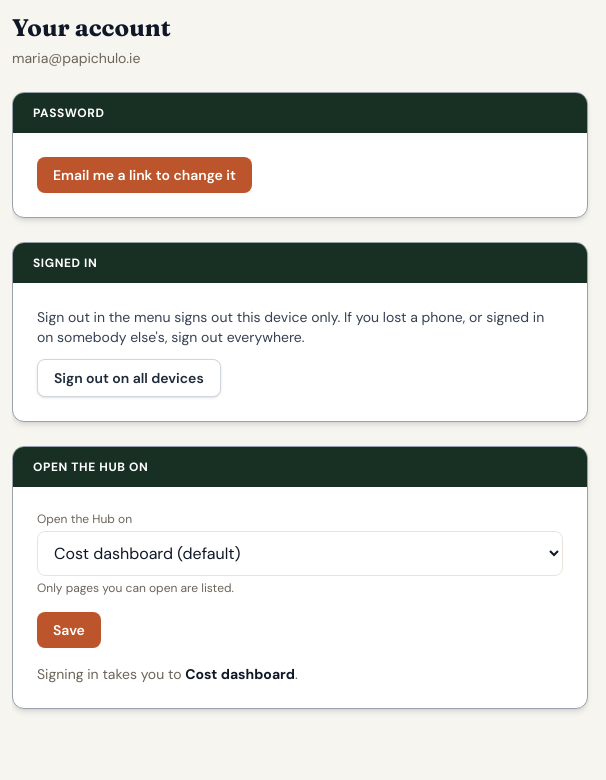
Scenario: your password › emails a link to change it rather than taking one typed here
Step 1. Click the button "Email me a link to change it" → [144, 175], box [37,157,252,193]
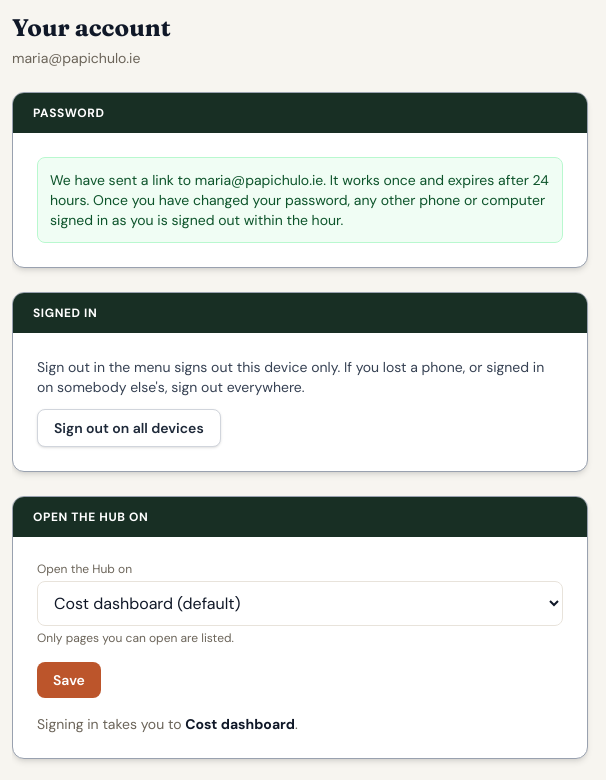
Check: the text "We have sent a link to maria@papichulo.ie" is shown, box [37,157,563,243]
